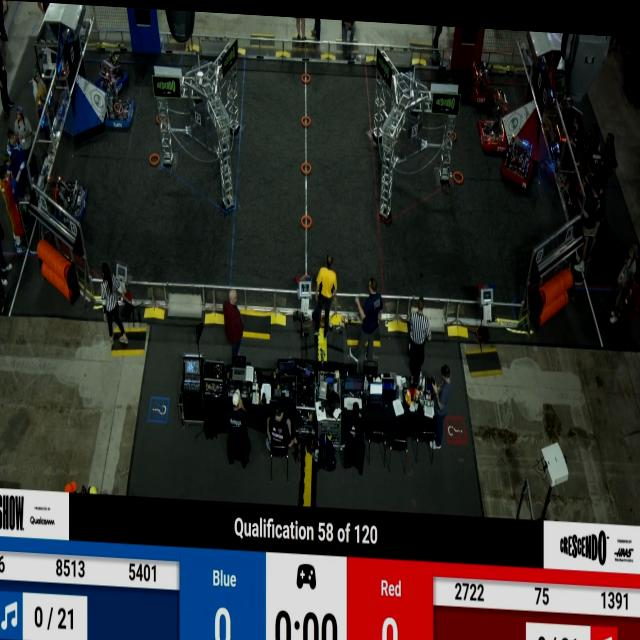Note: (296, 199, 316, 231), (145, 142, 164, 170), (297, 104, 315, 131), (297, 152, 315, 179), (153, 103, 169, 131), (297, 62, 313, 86), (445, 117, 458, 143), (451, 160, 465, 184)
Robot: (495, 123, 540, 193), (49, 168, 90, 232), (92, 33, 128, 98), (481, 73, 508, 154), (100, 76, 136, 130), (466, 43, 495, 106)
